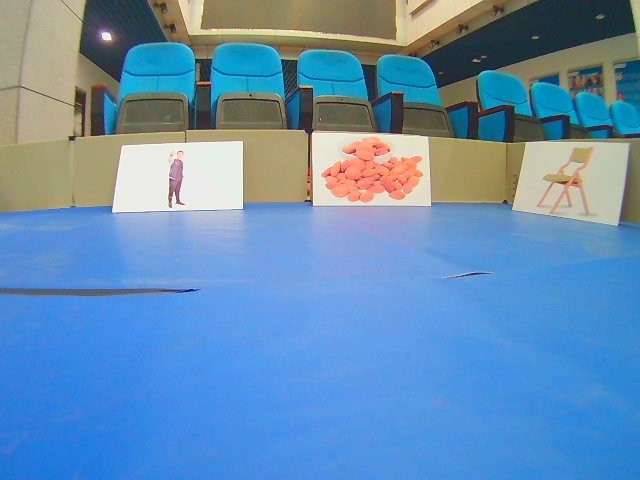food: (312, 132, 433, 207)
person: (111, 141, 245, 212)
table: (512, 141, 632, 227)
